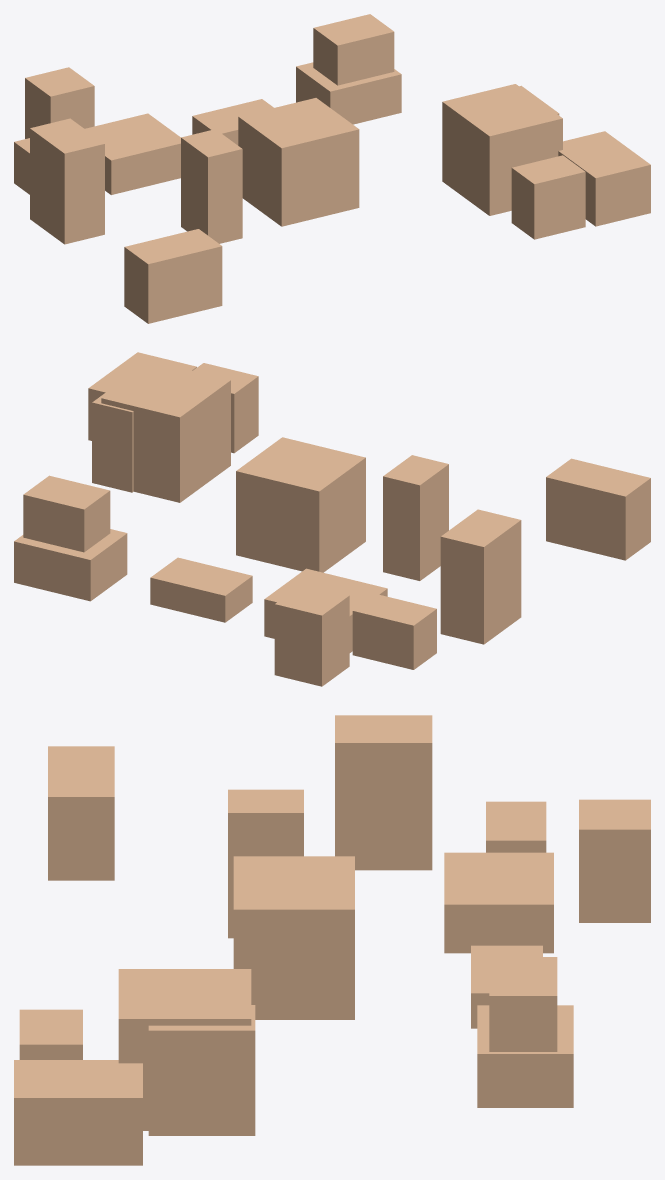
3 renders of one model, top to bottom at view 1: azimuth 30°, elevation 25°; view 2: azimuth 150°, elevation 25°; view 3: azimuth 270°, elevation 25°, orthographic. The views are drawn at different scales.
Bounding box in the file's own units: 178 × 31.48 × 143.
